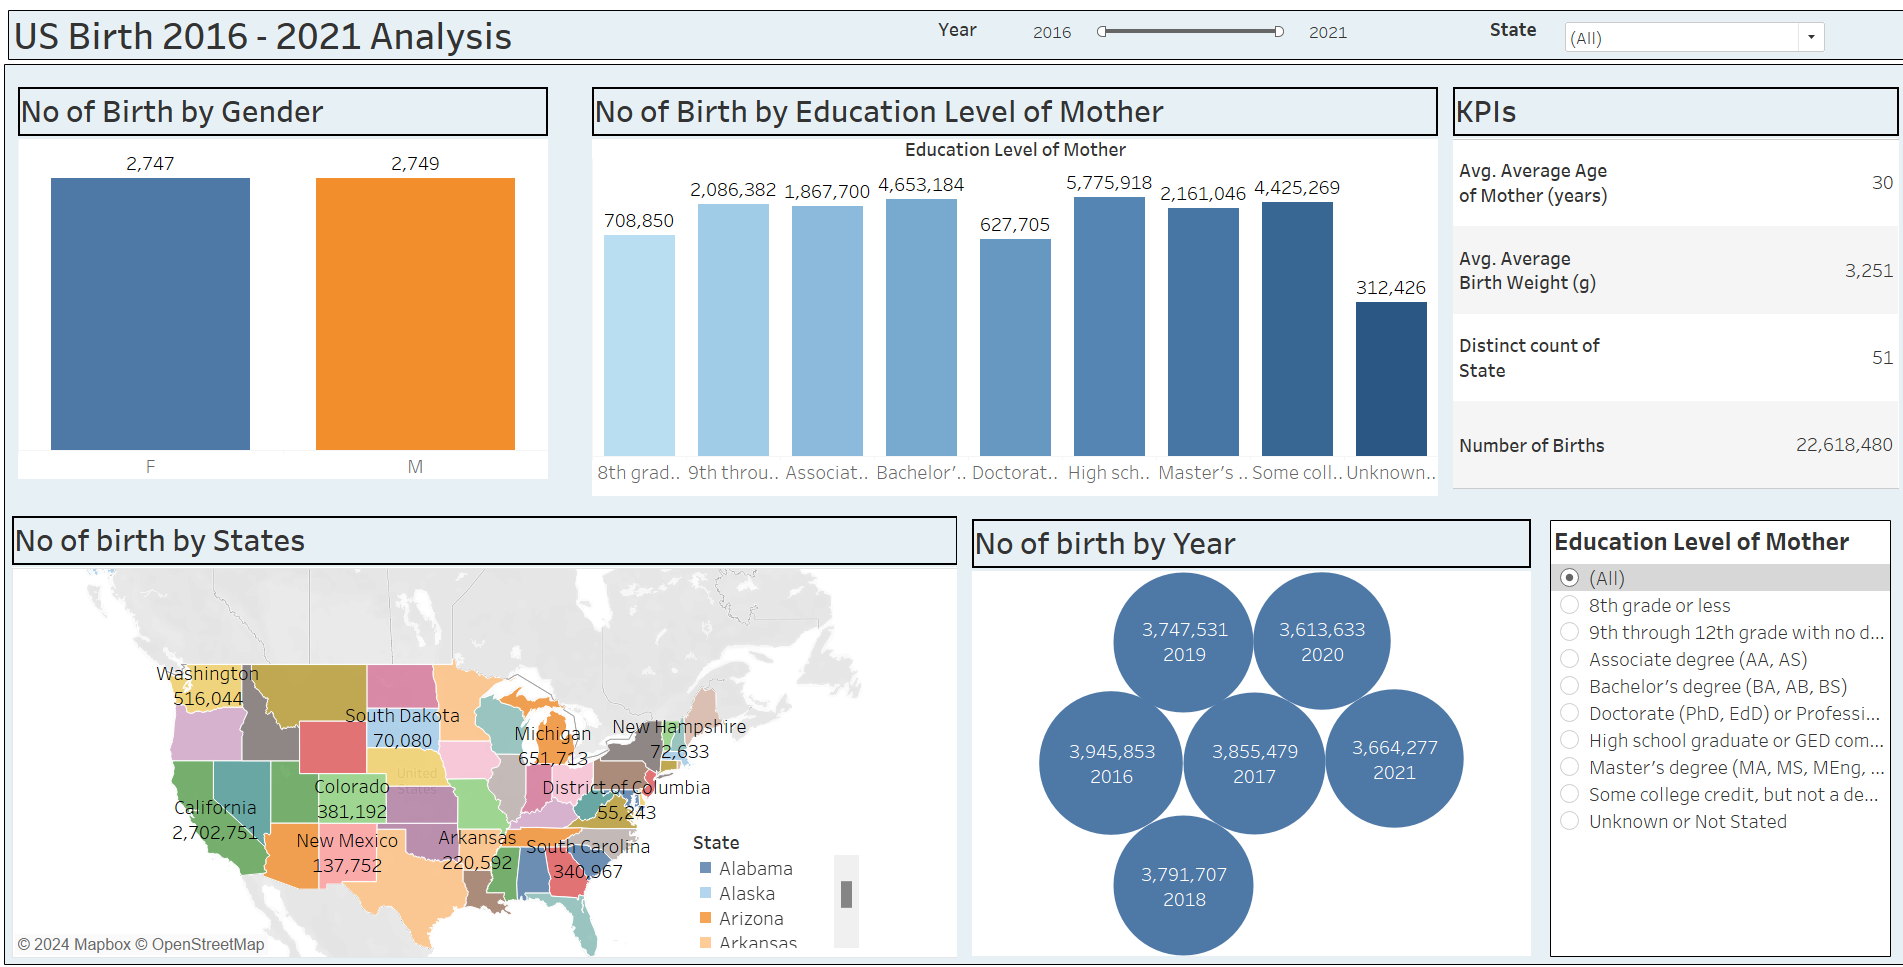

The dashboard page shown, as its layout file describes it:
{"tool":"tableau","page":{"name":"US Birth 2016 - 2021 Analysis ","canvas":[1000,1000],"units":"permille","ordinal":0},"visuals":[{"type":"title","box":[4.2,10.7,991.5,77.7]},{"type":"filter","title":"No of birth by Year","param":"[federated.16h3lq60ecoyut12ywsgj0ydrd1b].[none:Year:qk]","box":[490.7,22,225.7,45.2]},{"type":"filter","title":"No of birth by States","param":"[federated.16h3lq60ecoyut12ywsgj0ydrd1b].[none:State:nk]","box":[777.9,22,175.9,41.6]},{"type":"worksheet","title":"No of Birth by Gender","mark":"Automatic","rows":["Number of Births"],"cols":["Gender"],"box":[11.2,91.7,276.2,415.7]},{"type":"worksheet","title":"No of Birth by Education Level of Mother","mark":"Automatic","rows":["Number of Births"],"cols":["Education Level of Mother"],"box":[310.5,91.7,440.8,419.3]},{"type":"worksheet","title":"KPIs","mark":"Automatic","box":[758.7,91.7,232.5,412]},{"type":"worksheet","title":"No of birth by States","mark":"Multipolygon","box":[8.1,531.8,492.5,453.6]},{"type":"worksheet","title":"No of birth by Year","mark":"Circle","box":[508.1,534.2,291.2,448.7]},{"type":"filter","title":"No of Birth by Education Level of Mother","param":"[federated.16h3lq60ecoyut12ywsgj0ydrd1b].[none:Education Level of Mother:nk]","box":[809.2,535.5,177.7,448.7]},{"type":"legend","title":"No of birth by States","param":"[federated.16h3lq60ecoyut12ywsgj0ydrd1b].[none:State:nk]","box":[362.8,852.1,87.3,122.2]}]}

Visuals, with their boxes on the dashboard's canvas, which has no fixed pixel size, in thousandths of its width and height (x1, y1, x2, y2). These are canvas units, not pixel positions in the 1903x967 screenshot, which may show the page scaled, cropped or inside an application window:
title: <region>4, 11, 996, 88</region>
"No of birth by Year" filter: <region>491, 22, 716, 67</region>
"No of birth by States" filter: <region>778, 22, 954, 64</region>
"No of Birth by Gender" worksheet: <region>11, 92, 287, 507</region>
"No of Birth by Education Level of Mother" worksheet: <region>310, 92, 751, 511</region>
"KPIs" worksheet: <region>759, 92, 991, 504</region>
"No of birth by States" worksheet (Multipolygon marks): <region>8, 532, 501, 985</region>
"No of birth by Year" worksheet (Circle marks): <region>508, 534, 799, 983</region>
"No of Birth by Education Level of Mother" filter: <region>809, 536, 987, 984</region>
"No of birth by States" legend: <region>363, 852, 450, 974</region>
